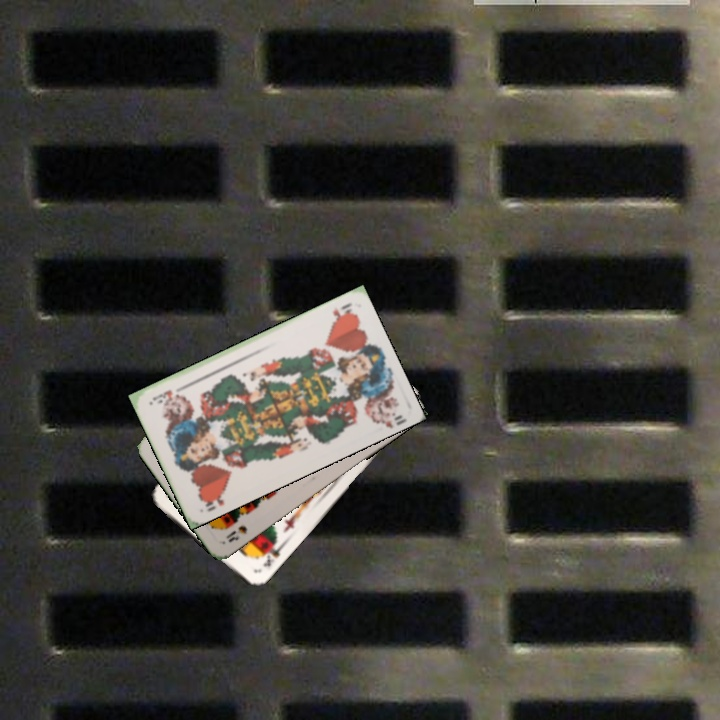HO: (197, 486, 230, 514), (329, 298, 354, 322)
S8: (221, 521, 250, 545)
SK: (258, 537, 286, 569)
